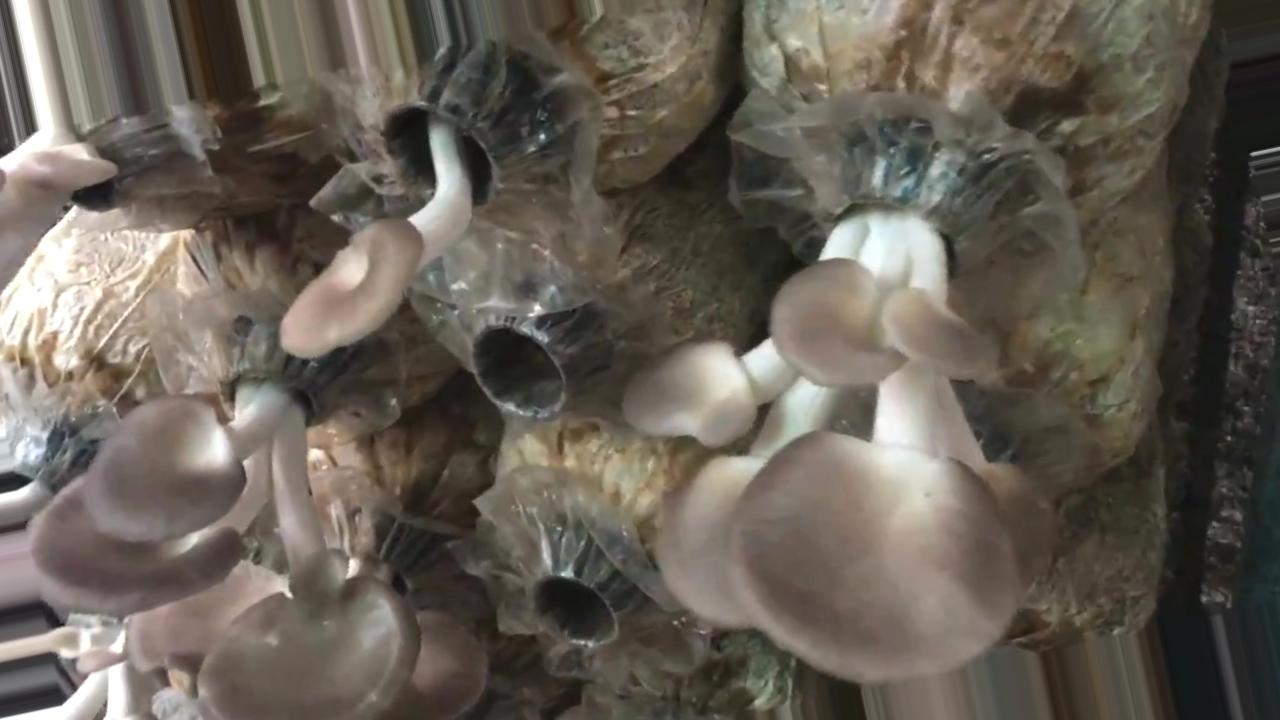nam: (628, 142, 1059, 678), (31, 338, 423, 720), (284, 64, 532, 355), (132, 562, 293, 675), (385, 607, 492, 720)
